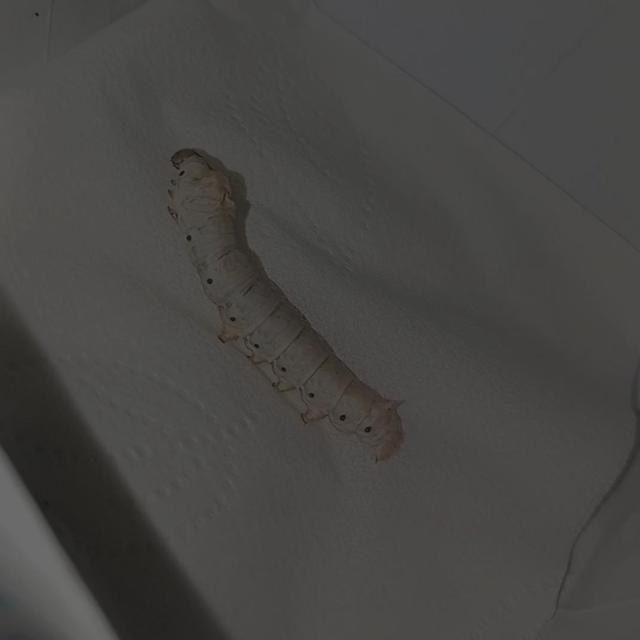Healthy: (156, 121, 415, 484)
